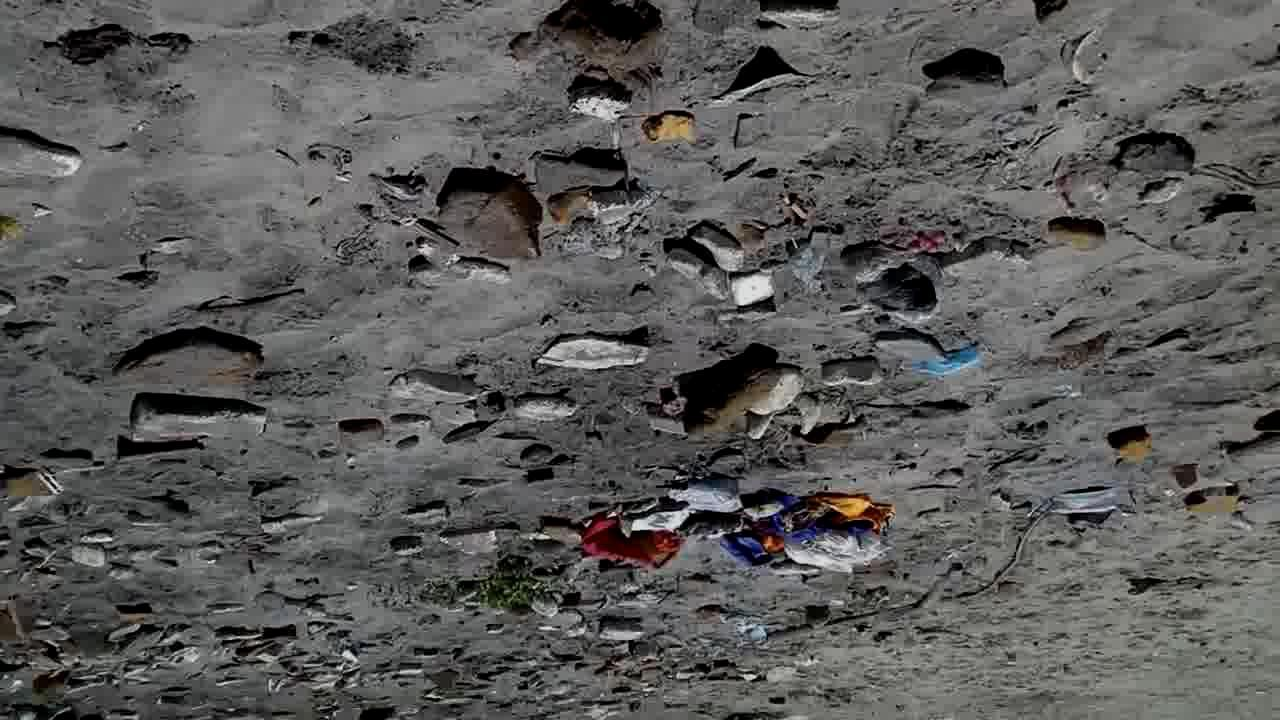large collection of objects: (210, 627, 423, 696), (18, 627, 190, 696), (438, 164, 542, 264), (105, 336, 266, 384), (118, 398, 269, 446), (1112, 130, 1204, 184), (2, 124, 80, 176), (750, 366, 811, 419), (554, 216, 626, 255), (401, 372, 487, 400)
obj: (686, 484, 904, 572), (500, 1, 659, 73), (601, 473, 750, 532), (668, 224, 770, 306), (582, 517, 682, 570), (546, 184, 658, 227), (532, 330, 646, 368), (908, 339, 994, 380), (475, 563, 541, 608), (1038, 216, 1106, 256), (1052, 482, 1130, 514), (1110, 421, 1156, 467), (440, 528, 506, 557), (643, 110, 696, 146), (1182, 488, 1242, 516), (512, 398, 580, 419), (600, 622, 648, 642), (540, 522, 583, 540)
